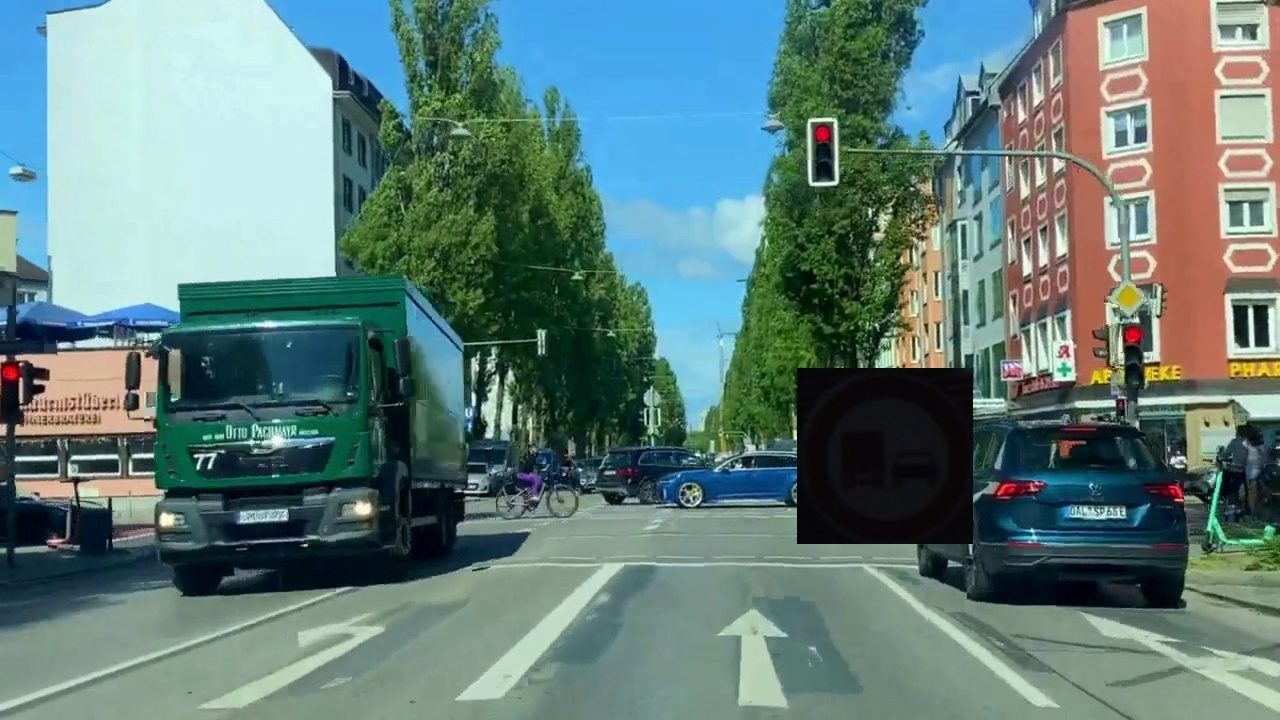No pass >3.5t: (797, 368, 973, 544)
